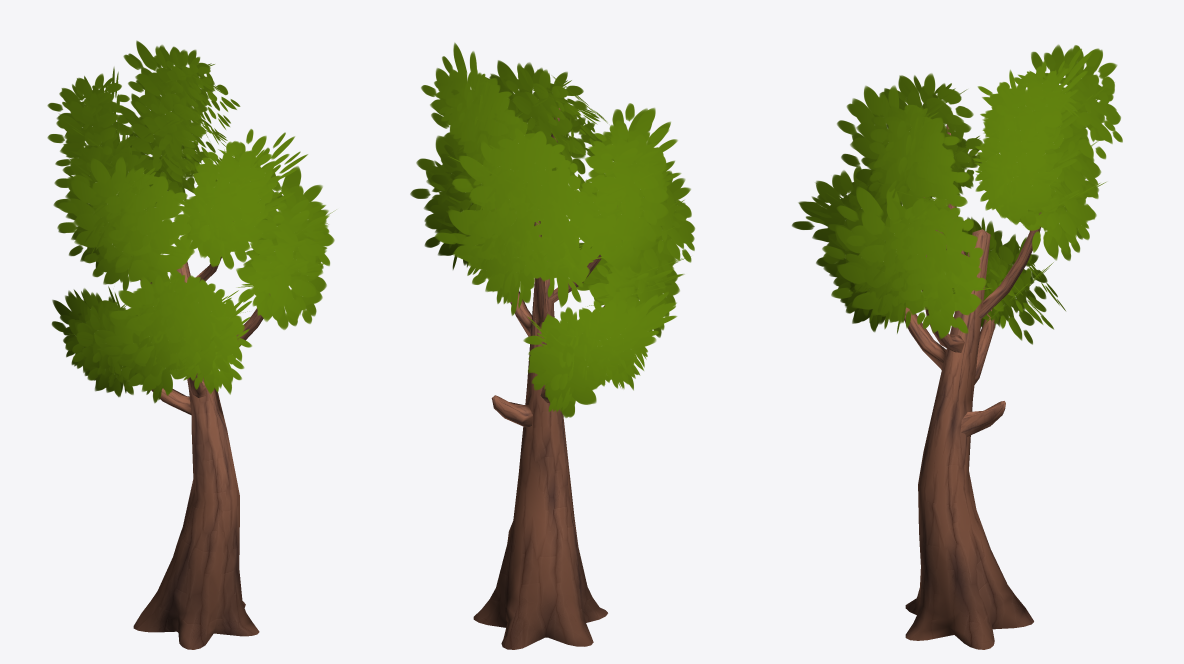
File: tree-5.glb
The picture shows the model from 3 angles, left to right: view 1: azimuth 30°, elevation 25°; view 2: azimuth 150°, elevation 25°; view 3: azimuth 270°, elevation 25°; orthographic projection. The views are drawn at different scales.
Parts seen in each view (by area): view 1: CommonTree_5; view 2: CommonTree_5; view 3: CommonTree_5.
Part boxes in pixels (x1,y1,x2,y2): CommonTree_5: (47,40,335,649); CommonTree_5: (410,42,694,649); CommonTree_5: (792,44,1122,649).
Size of the model in its own units: 3.67 by 7.01 by 4.22.
Materials: 2 (2 with a texture image).
